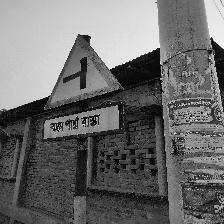Side-road-left: (42, 34, 124, 140)
